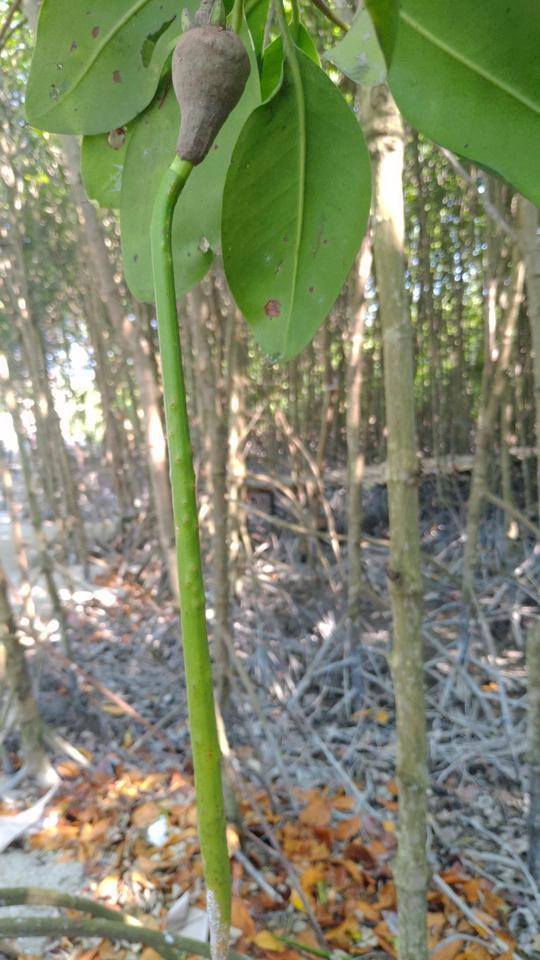setengah matang: (148, 11, 259, 958)
